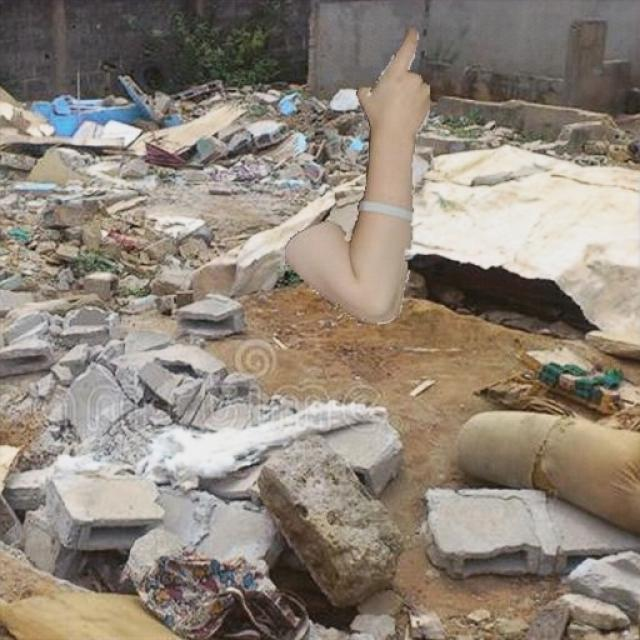Person in Rubble: (285, 28, 429, 324)
